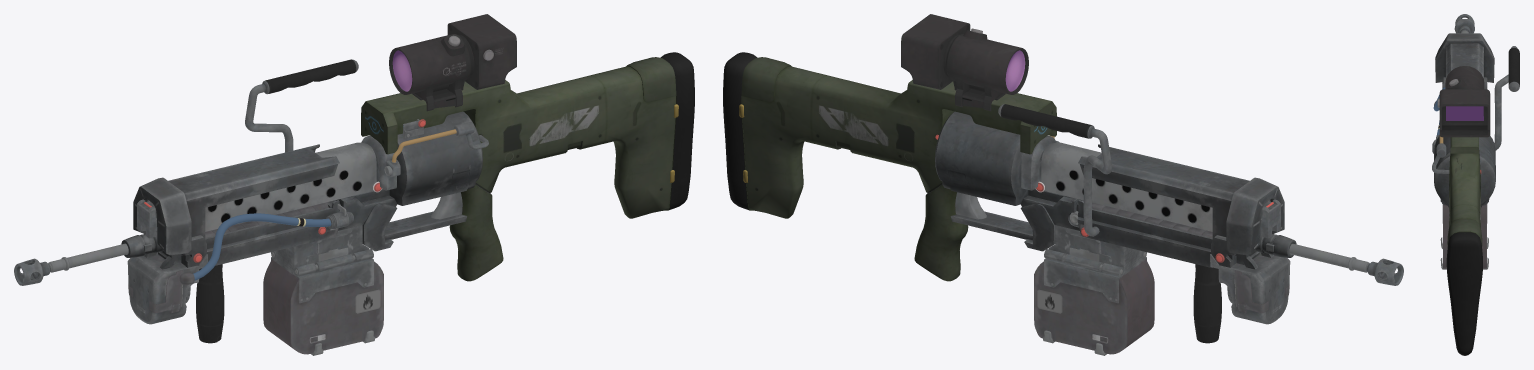
The model's file is scatter.glb.
The picture shows the model from 3 angles, left to right: view 1: azimuth 30°, elevation 25°; view 2: azimuth 150°, elevation 25°; view 3: azimuth 270°, elevation 25°; orthographic projection. The views are drawn at different scales.
Size of the model in its own units: 686 by 272 by 96.63.
2 materials, 2 textured.
